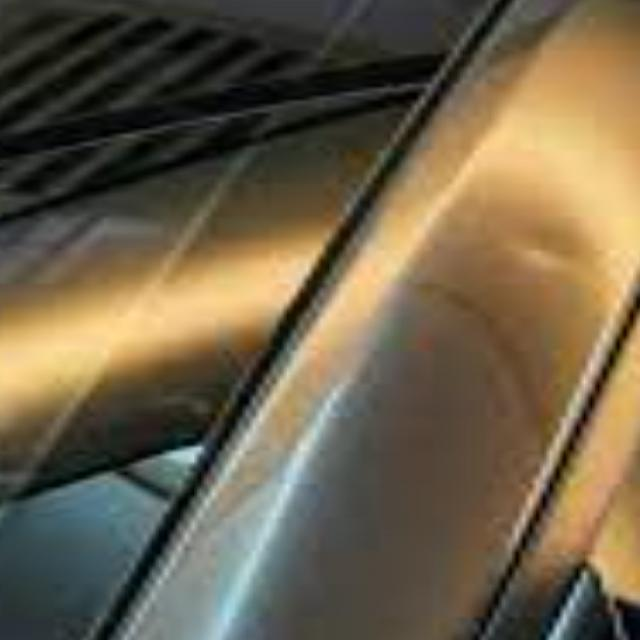dents: (496, 198, 640, 318)
